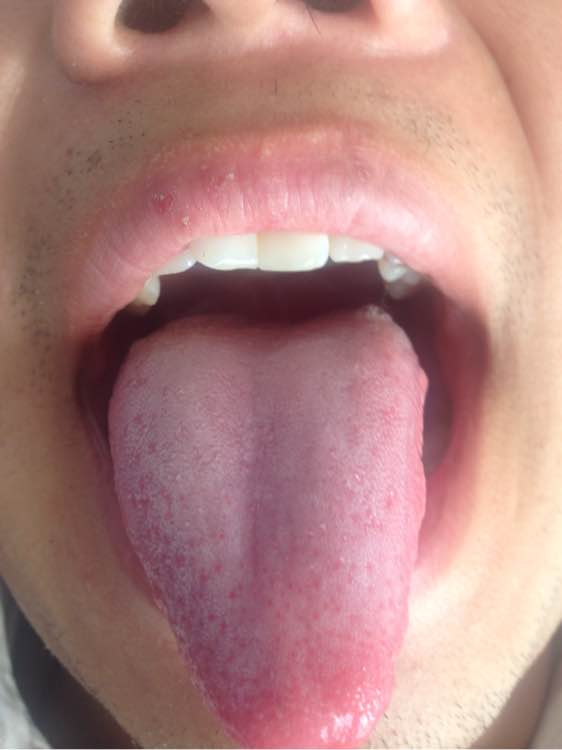baitaishe: (107, 312, 429, 750)
hongdianshe: (212, 559, 223, 575)
hongshe: (107, 312, 429, 750)
